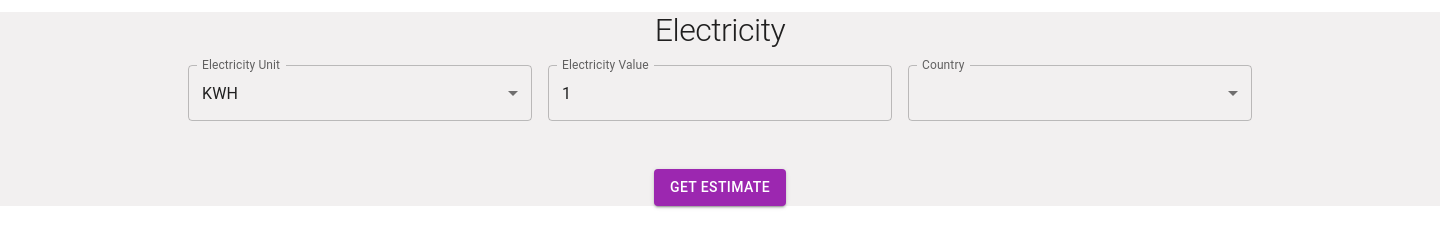
ElectricityForm › shows validation error for invalid electricity value
Replace the text in the field labelled "Electricity Value" with "-1" at {"x": 720, "y": 93}, box [548, 65, 892, 121]
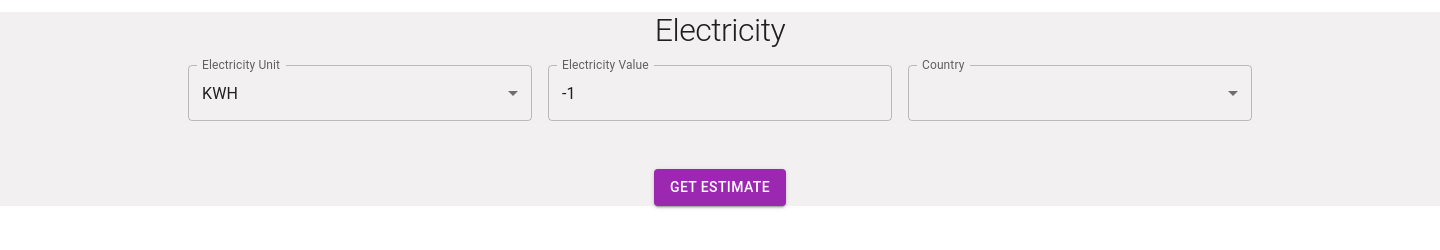
Click the button "Get Estimate" at {"x": 720, "y": 188}, box [654, 169, 786, 206]
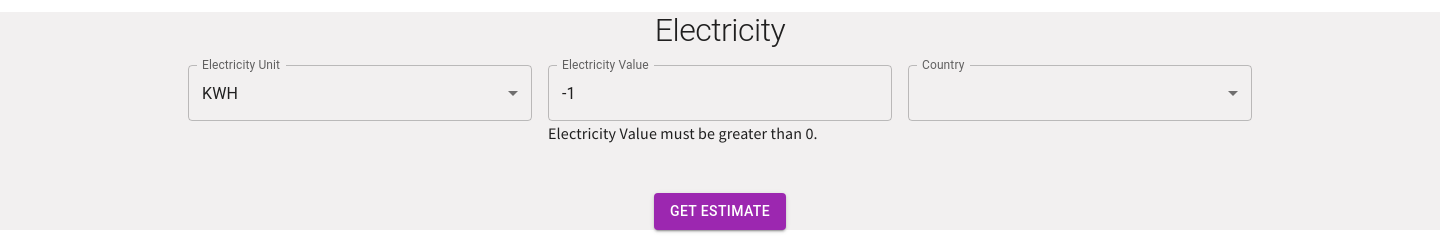
Now the text "Electricity Value must be greater than 0." is shown, box [548, 123, 818, 143]
